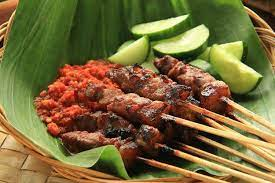sate: (38, 9, 242, 166)
